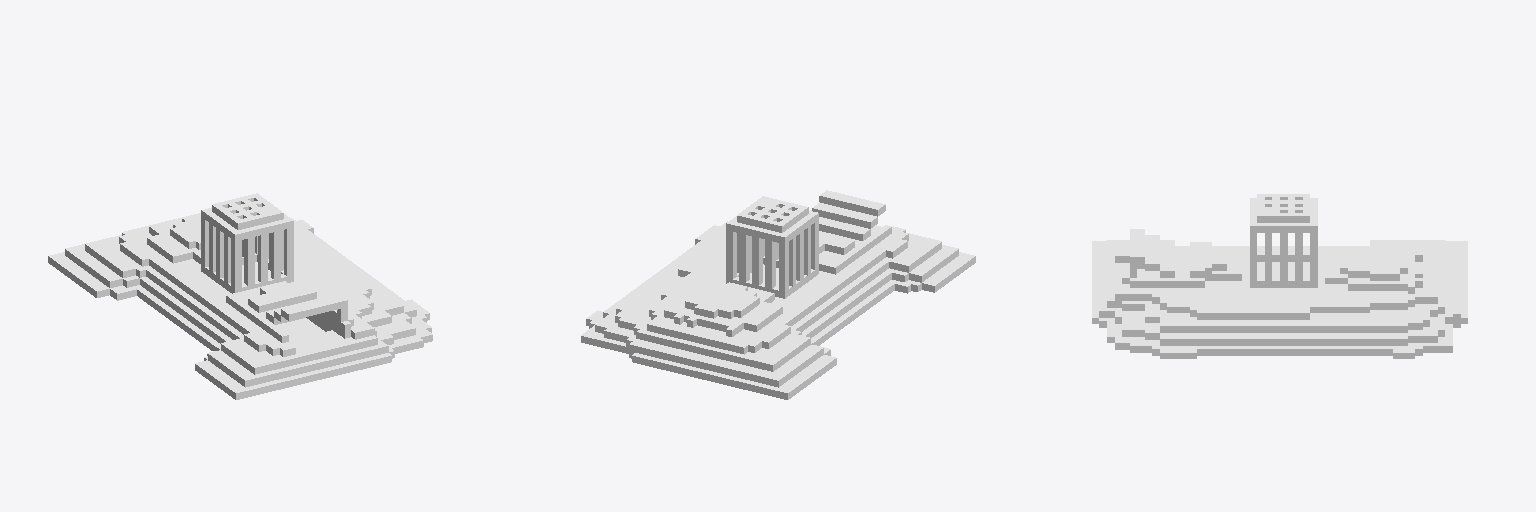
File: island3.obj
The picture shows the model from 3 angles: view 1: azimuth 30°, elevation 25°; view 2: azimuth 150°, elevation 25°; view 3: azimuth 270°, elevation 25°; orthographic projection.
Size of the model in its own units: 35 by 14 by 50.